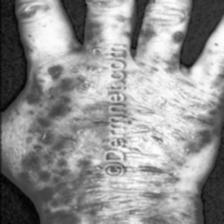Non-Cancerous Skin Condition: (128, 83, 204, 166), (31, 74, 102, 144), (43, 210, 75, 224), (19, 172, 31, 182), (40, 172, 50, 181)
